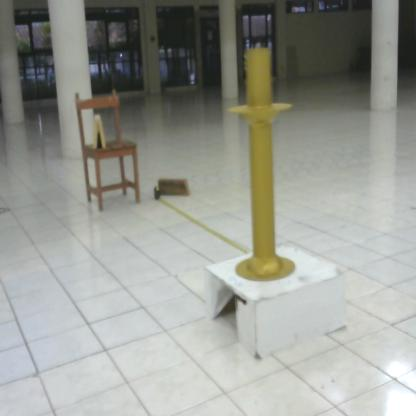pole: (224, 40, 304, 289)
